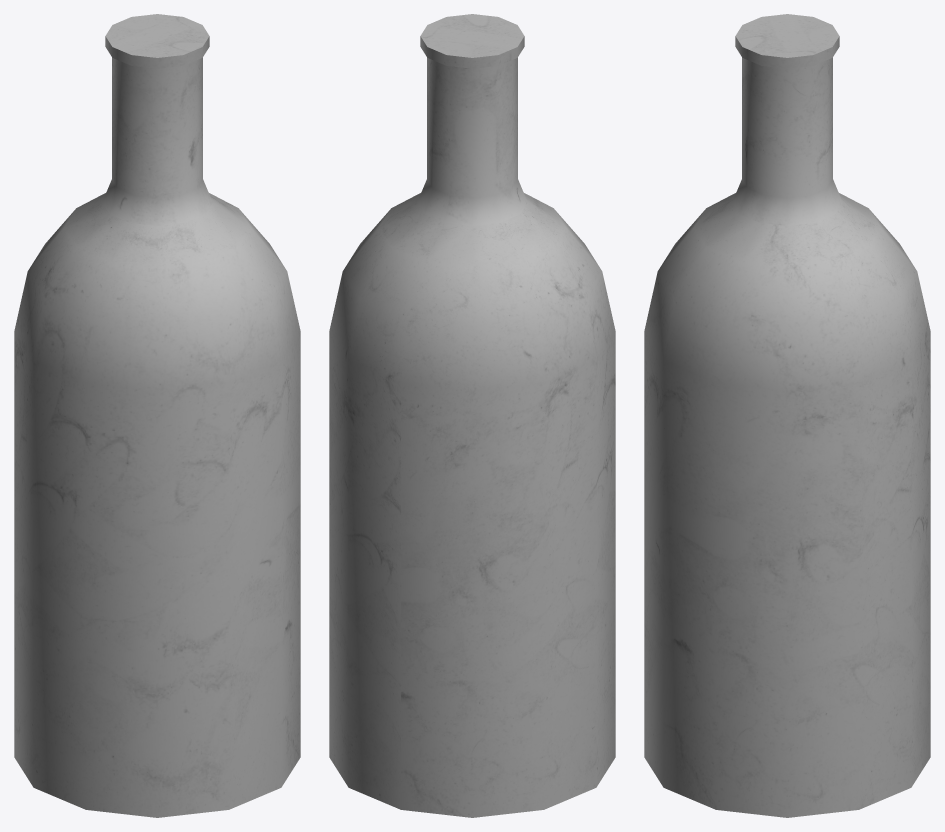
File: Bottle2.fbx
3 views of the same model, side by side, from view 1: azimuth 30°, elevation 25°; view 2: azimuth 150°, elevation 25°; view 3: azimuth 270°, elevation 25° (orthographic).
Visible parts, largest first — view 1: Bottle2; view 2: Bottle2; view 3: Bottle2.
Boxes of the visible parts, x1=… form: Bottle2: x1=14, y1=14, x2=300, y2=817; Bottle2: x1=329, y1=14, x2=615, y2=817; Bottle2: x1=644, y1=14, x2=930, y2=817.
Bounding box in the file's own units: 0.1658 × 0.4615 × 0.1658.
